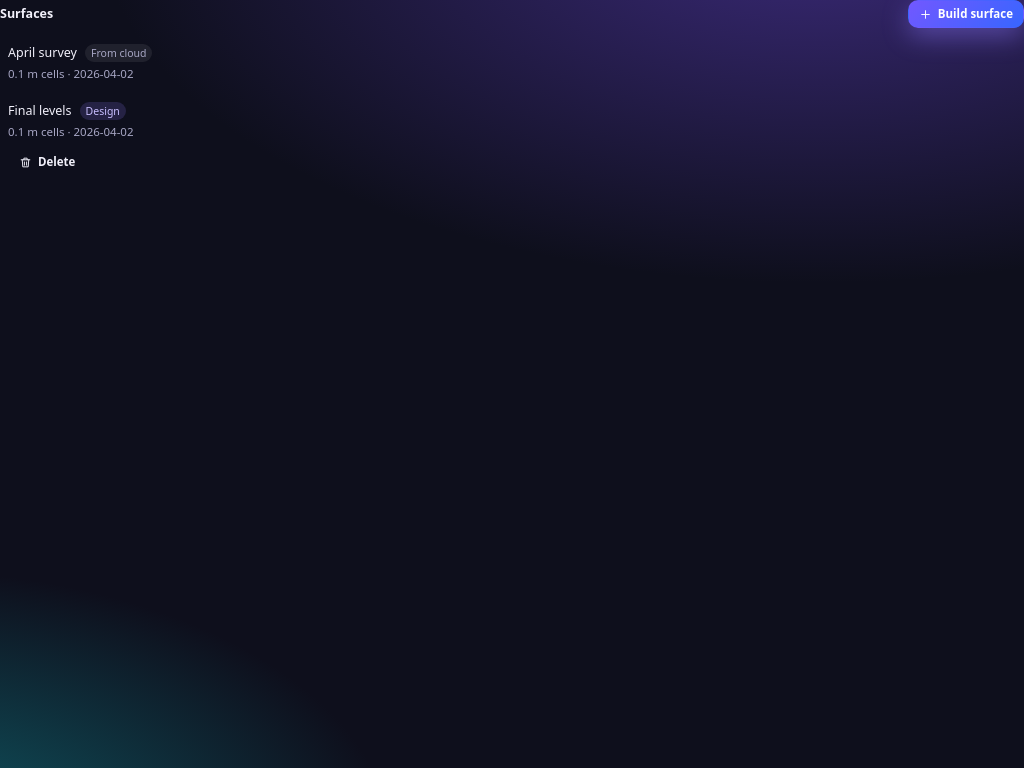
Test case: SurfaceList › offers Delete on a ready design surface, after a confirmation
This screenshot has width=1024, height=768.
Click the button "Delete": [47, 162] box top-left (8, 148), bottom-right (86, 176)
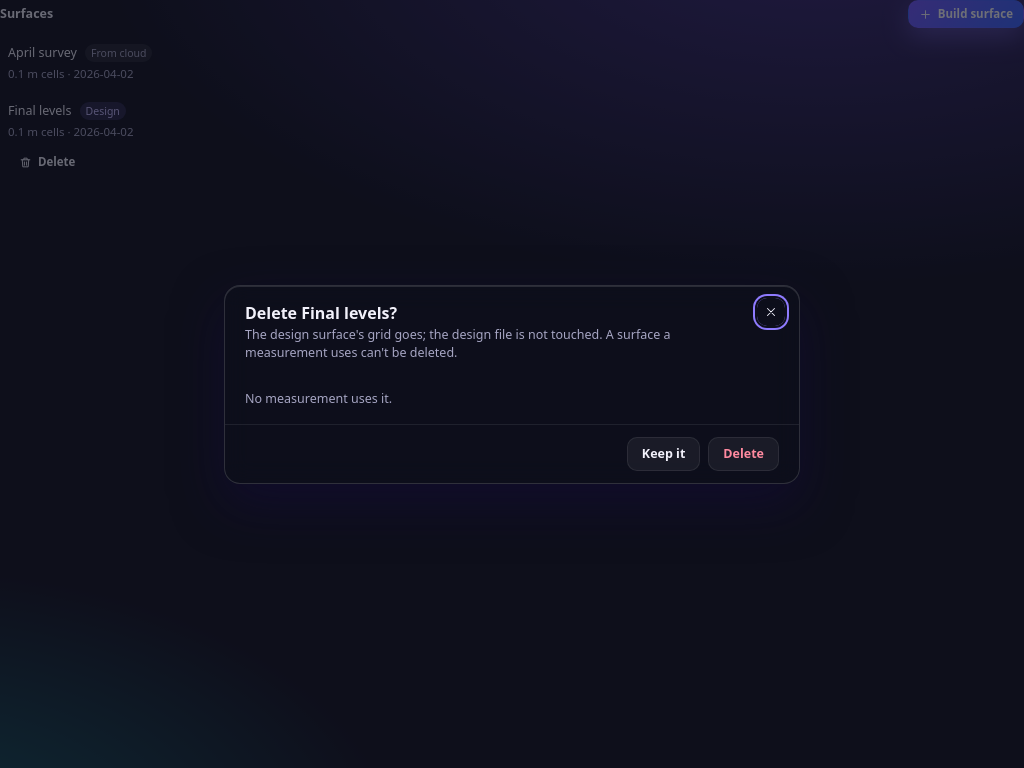
Click the button "Keep it": [664, 454] box top-left (627, 436), bottom-right (700, 470)
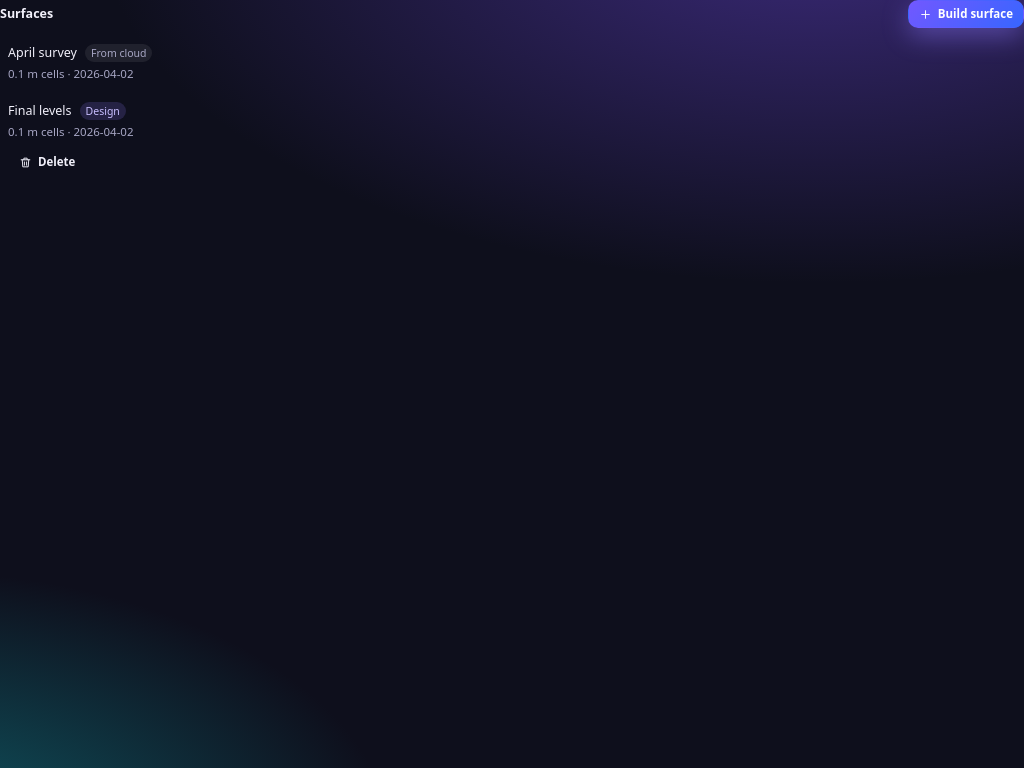
expect the dialog is gone: met
Click the button "Delete": [47, 162] box top-left (8, 148), bottom-right (86, 176)
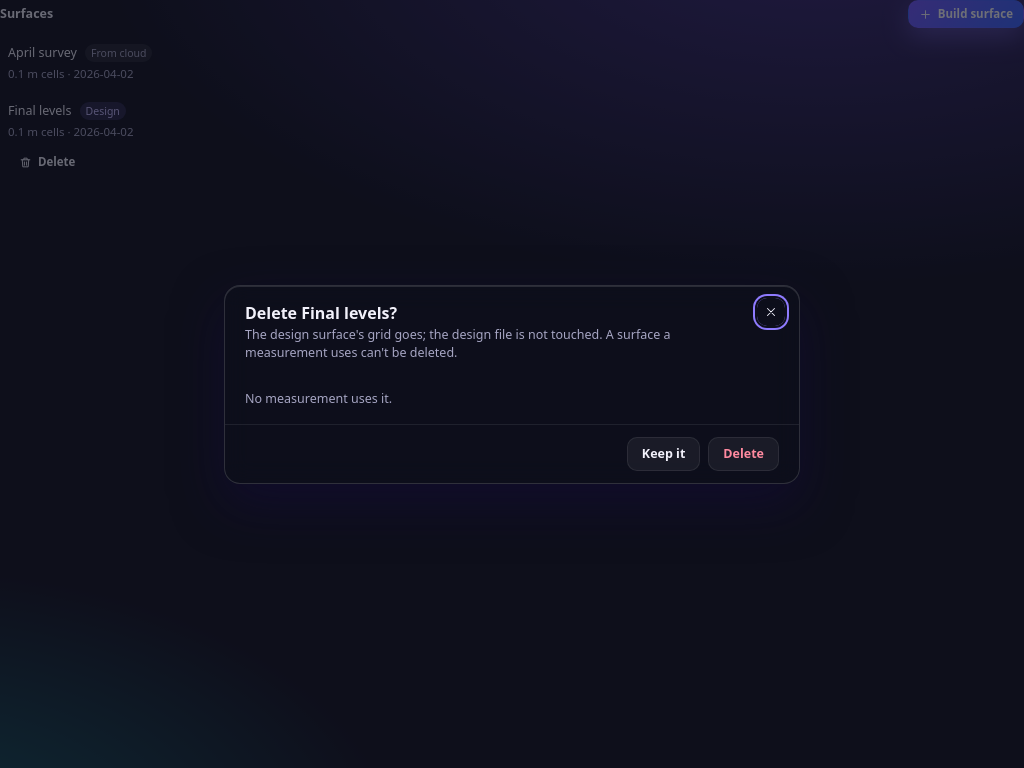
Click the button "Delete": [744, 454] box top-left (708, 436), bottom-right (779, 470)
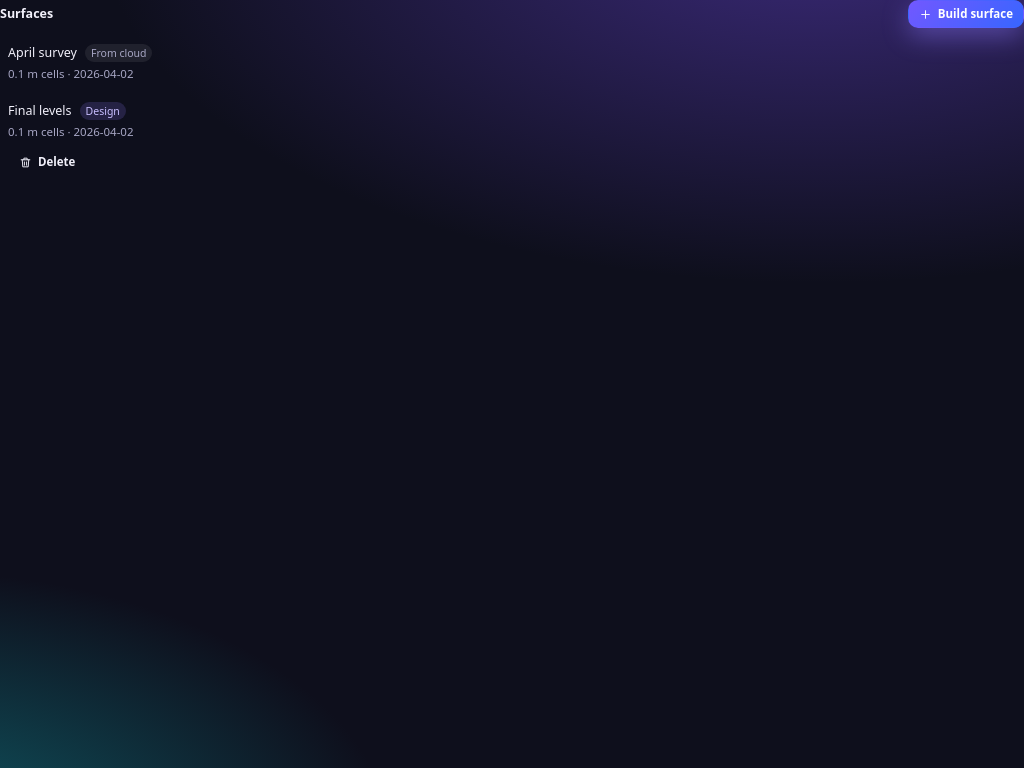
expect the dialog is gone: met
